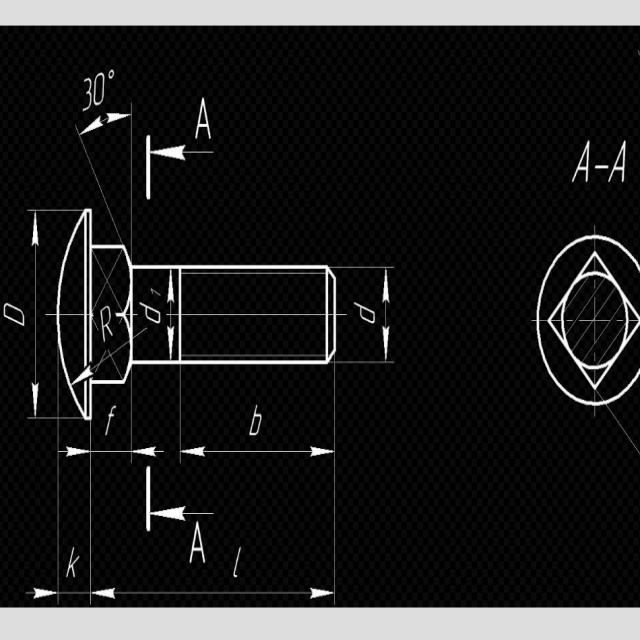marking_line: (94, 583, 334, 603), (182, 445, 334, 466), (28, 213, 41, 413), (82, 108, 130, 156), (154, 139, 219, 172), (60, 444, 169, 462), (150, 504, 218, 526), (381, 272, 394, 363), (166, 272, 175, 361), (22, 583, 60, 602)
numeric: (77, 73, 107, 111)
